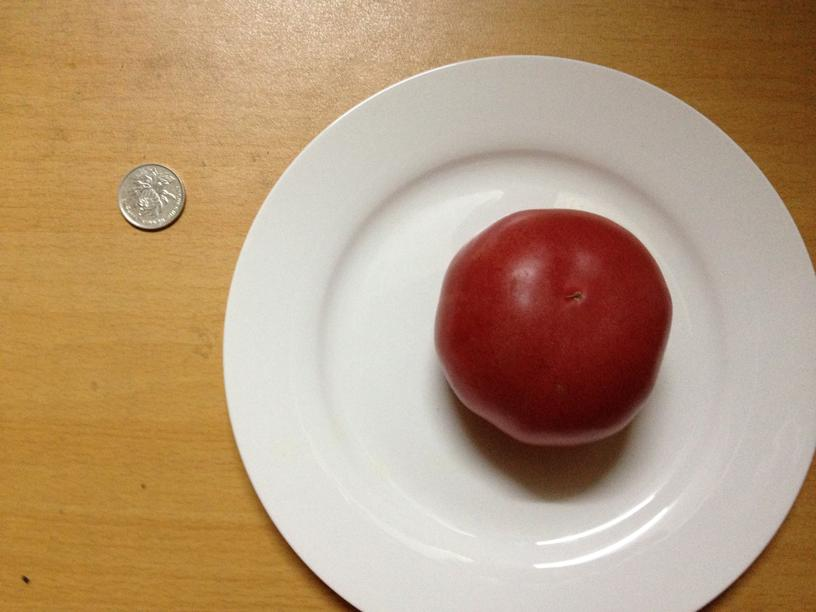coin: (112, 165, 188, 232)
tomato: (423, 207, 672, 446)
